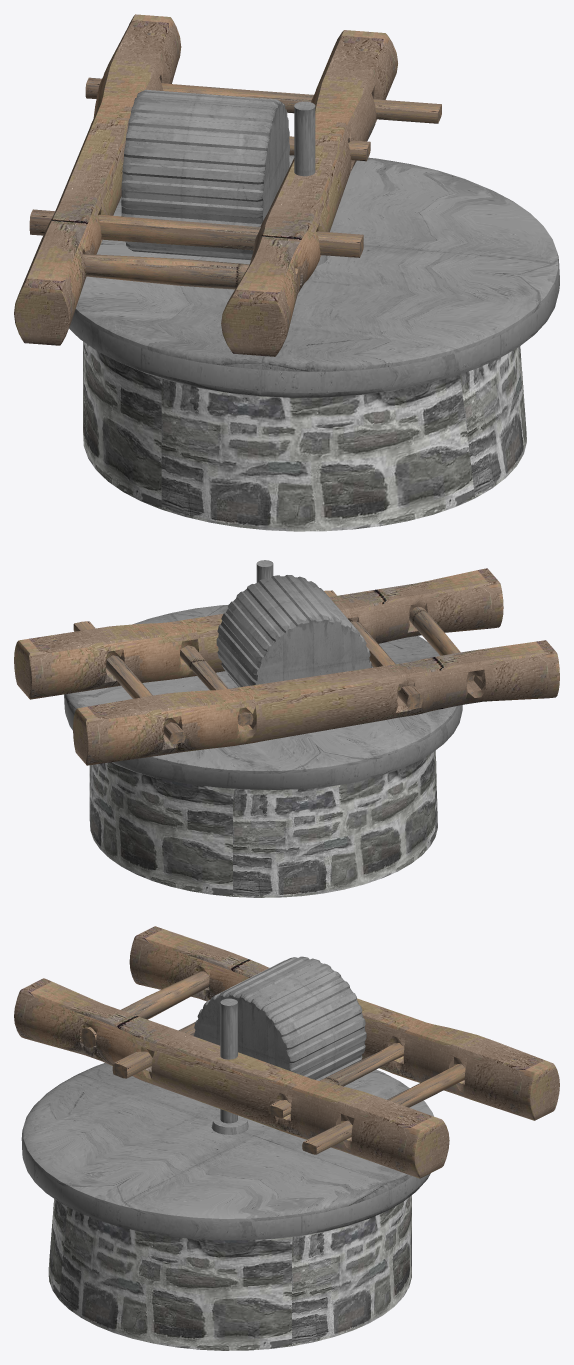
3 views of the same model, one above another, from view 1: azimuth 30°, elevation 25°; view 2: azimuth 150°, elevation 25°; view 3: azimuth 270°, elevation 25° (orthographic). The views are drawn at different scales.
Visible parts, largest first — view 1: fangzi_16; view 2: fangzi_16; view 3: fangzi_16.
Boxes of the visible parts, <box> form: fangzi_16: <box>14,14,559,531</box>; fangzi_16: <box>14,560,559,897</box>; fangzi_16: <box>14,926,559,1350</box>.
Size of the model in its own units: 95.97 by 54.87 by 100.
